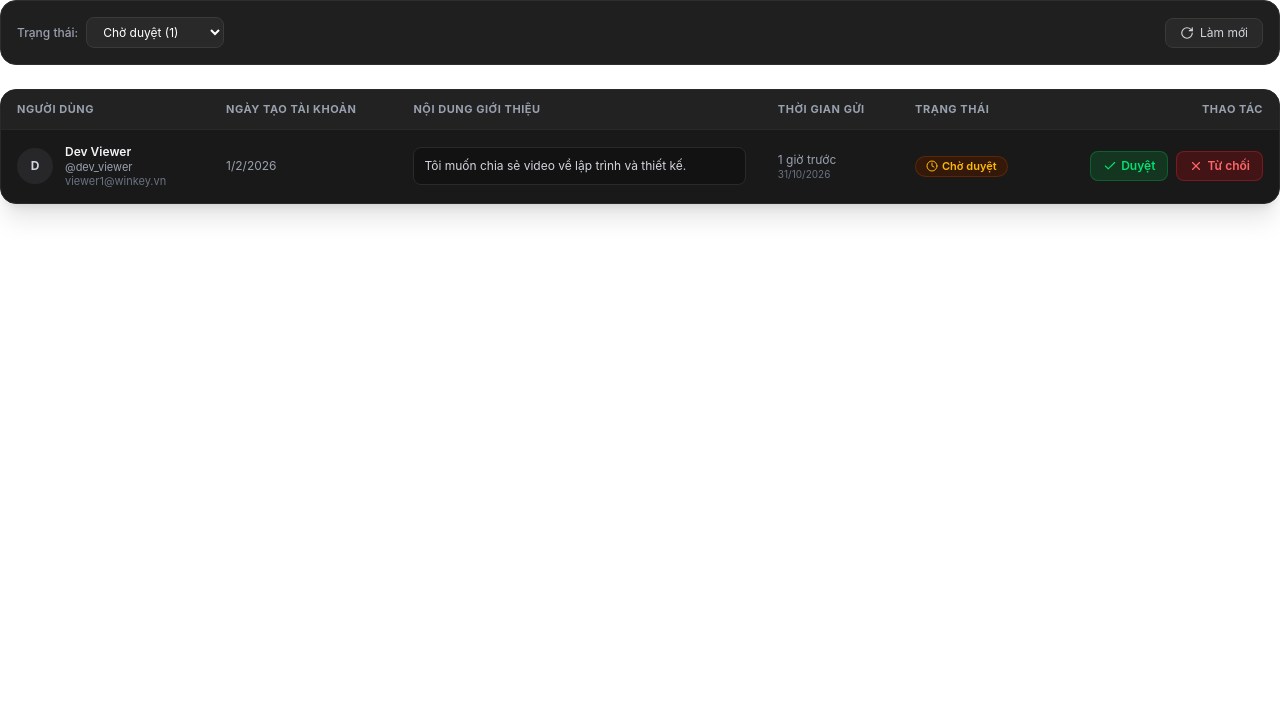
Test case: Task ROLE1 (ADR-046): Admin Creator Requests & Quick Role Management › CreatorRequestsViewer › 2. Reject action: requires note input in dialog, submits REJECT with note
Expected: the row with test id "creator-request-row-req-1" is shown, left=1, top=129, right=1279, bottom=203
# Click Reject
Click the button with test id "admin-reject-btn-req-1". click: (1220, 166)
box: left=1176, top=151, right=1263, bottom=181
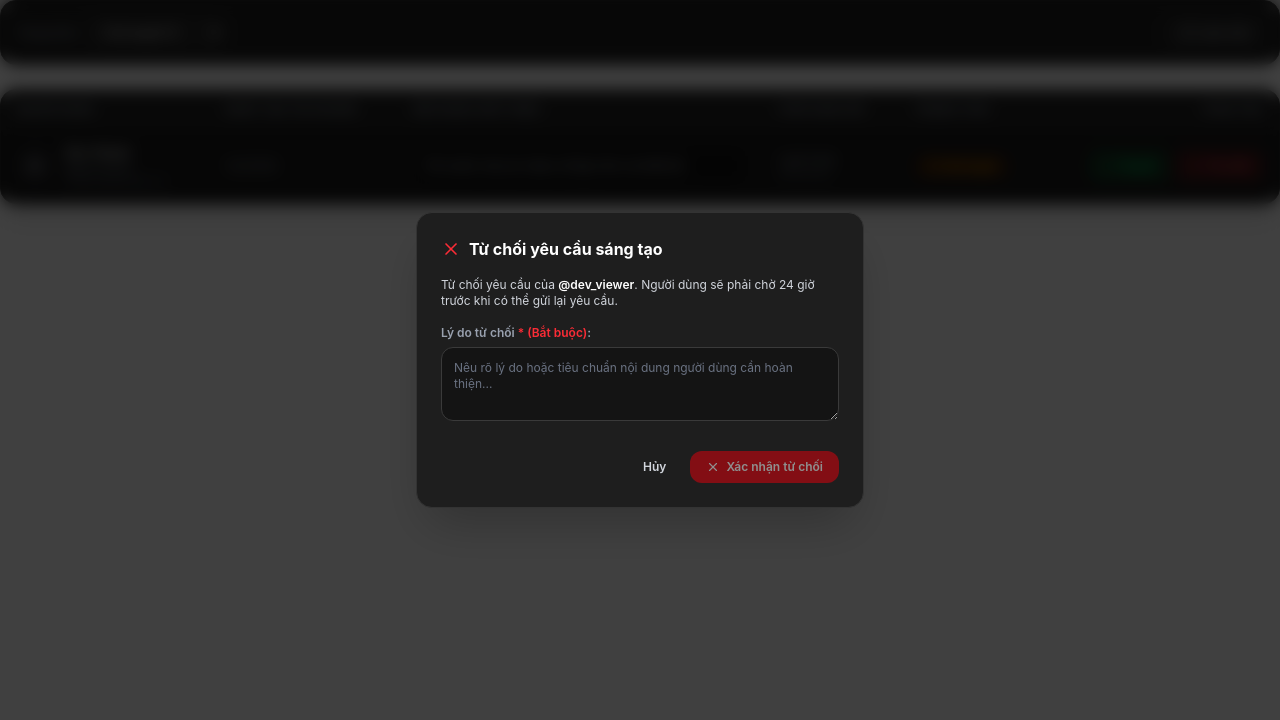
Result: the text "Từ chối yêu cầu sáng tạo" is shown at left=469, top=237, right=662, bottom=261
Result: the button with test id "confirm-reject-btn" is disabled at left=690, top=451, right=839, bottom=483
Replace the text in the text box with test id "admin-reject-note-input" with "Nội dung chưa phù hợp với định hướng hiện tại.". click: (640, 384)
box: left=441, top=347, right=839, bottom=421
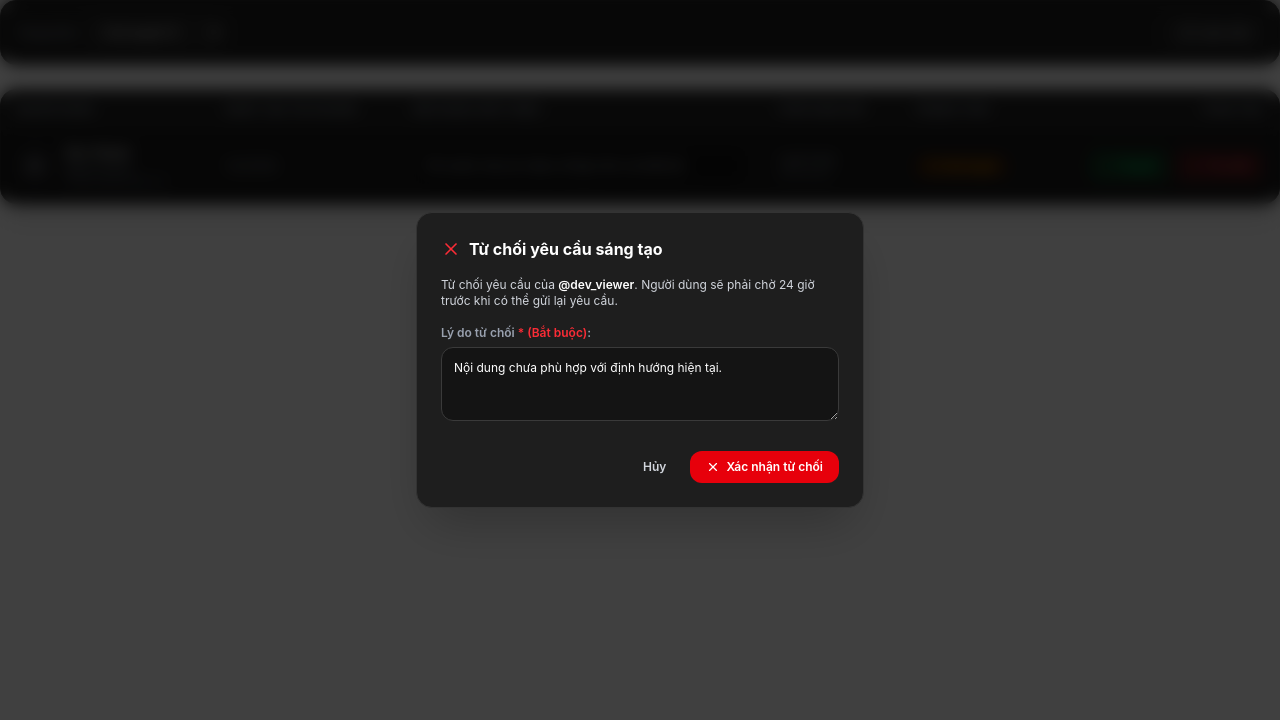
Result: the button with test id "confirm-reject-btn" is enabled
Click the button with test id "confirm-reject-btn". click: (765, 467)
box: left=690, top=451, right=839, bottom=483
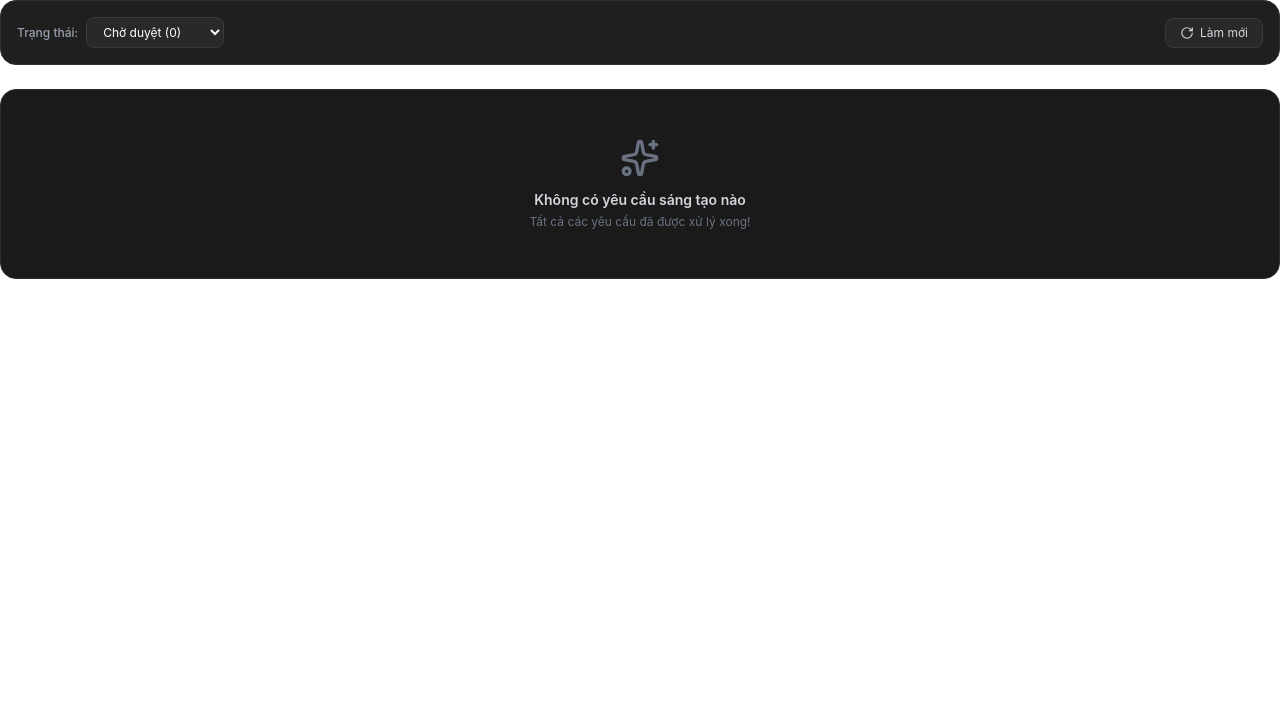
Result: the row with test id "creator-request-row-req-1" is gone
